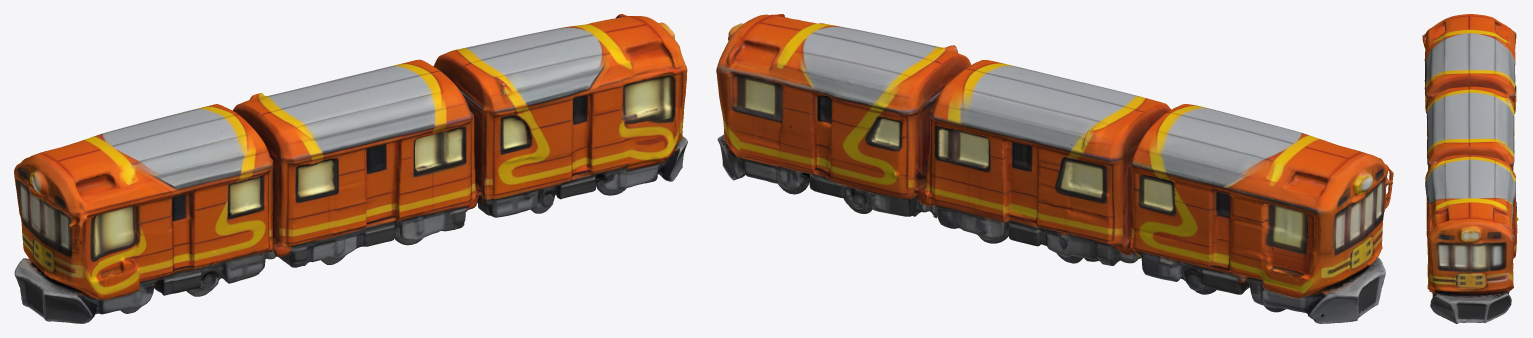
The model's file is Orange Express Train.glb.
3 views of the same model, side by side, from view 1: azimuth 30°, elevation 25°; view 2: azimuth 150°, elevation 25°; view 3: azimuth 270°, elevation 25° (orthographic). The views are drawn at different scales.
Size of the model in its own units: 2 by 0.4587 by 0.3793.
Materials: 1 (1 with a texture image).
